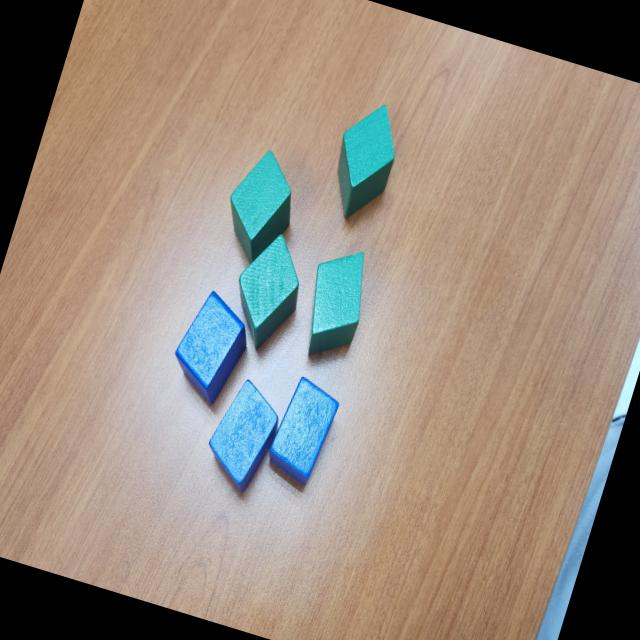blue: (162, 285, 260, 413), (196, 373, 289, 499), (262, 374, 344, 489)
green: (212, 140, 309, 272), (219, 225, 315, 358), (320, 95, 409, 226), (290, 240, 380, 366)
